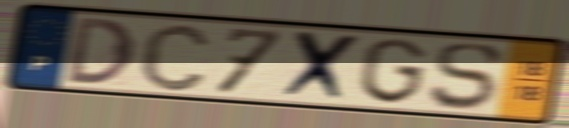7: (214, 25, 285, 96)
C: (136, 21, 214, 94)
D: (65, 15, 138, 87)
G: (356, 36, 429, 107)
S: (427, 41, 506, 112)
X: (276, 28, 365, 106)
